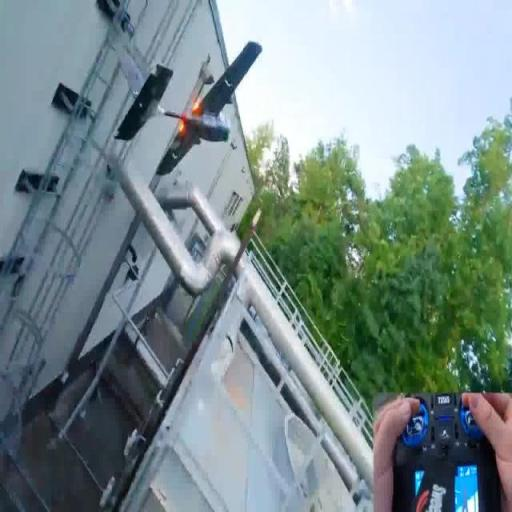uav: (110, 34, 268, 186)
